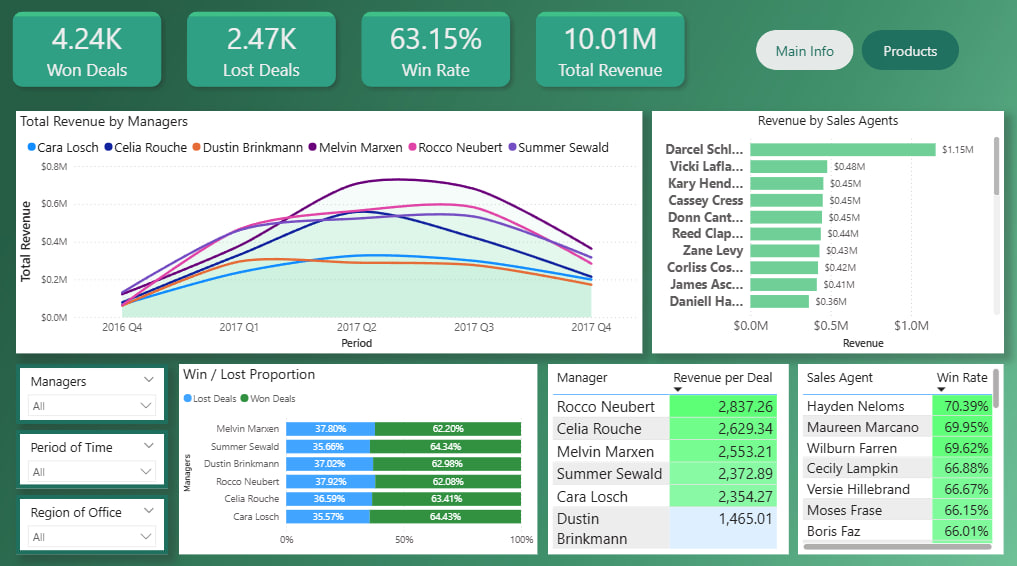

The dashboard page shown, as its layout file describes it:
{"tool":"powerbi","page":{"name":"Main Info","canvas":[1280,720],"ordinal":0},"visuals":[{"type":"slicer","fields":{"Values":["sqllab_agent_and_quarterly_perfomance.manager","sqllab_agent_and_quarterly_perfomance.year_period","sqllab_agent_and_quarterly_perfomance.quarter_period"]},"box":[21.2,457.5,190,75],"z":0},{"type":"lineChart","title":"Total Revenue by Managers","fields":{"Y":["Sum(sqllab_agent_and_quarterly_perfomance.total_won_revenue)"],"Series":["sqllab_agent_and_quarterly_perfomance.manager"],"Category":["agent_perf.Period"]},"box":[20.9,141.4,782.9,302.9],"z":1000},{"type":"clusteredBarChart","fields":{"Category":["sqllab_agent_and_quarterly_perfomance.sales_agent"],"Y":["Sum(sqllab_agent_and_quarterly_perfomance.total_won_revenue)"]},"box":[816.7,141.1,440,303.3],"z":2000},{"type":"slicer","fields":{"Values":["sqllab_agent_and_quarterly_perfomance.year_period","sqllab_agent_and_quarterly_perfomance.quarter_period"]},"box":[21.2,540,190,72.5],"z":3000},{"type":"slicer","fields":{"Values":["sqllab_agent_and_quarterly_perfomance.regional_office"]},"box":[21.1,621.1,190,74.4],"z":4000},{"type":"pageNavigator","box":[946.2,40,255,50],"z":5000},{"type":"hundredPercentStackedBarChart","title":"Win / Lost Proportion","fields":{"Category":["agent_perf.manager"],"Y":["agent_perf.Lost Deals","agent_perf.Won Deals"]},"box":[225,457.5,447.5,237.5],"z":6000},{"type":"tableEx","fields":{"Values":["sqllab_manager_perfomance.manager","agent_perf.Revenue per Deal"]},"box":[686.5,458.1,301.2,237.7],"z":7000},{"type":"cardVisual","fields":{"Data":["agent_perf.Measure","agent_perf.Lost Deals","agent_perf.Win Rate","agent_perf.Total Revenue"]},"box":[0,0,875,128.8],"z":8000},{"type":"tableEx","fields":{"Values":["agent_perf.sales_agent","agent_perf.Win Rate"]},"box":[999.2,456.9,257.3,237.7],"z":9000}]}

Visuals, with their boxes in screenshot pixels (x1, y1, x2, y2), scaled from the page's 1280x720 canvas onto the 1017x566 screenshot:
slicer - sqllab_agent_and_quarterly_perfomance.manager x sqllab_agent_and_quarterly_perfomance.year_period: crop(17, 360, 168, 419)
"Total Revenue by Managers" lineChart: crop(17, 111, 639, 349)
clusteredBarChart - sqllab_agent_and_quarterly_perfomance.sales_agent x Sum(sqllab_agent_and_quarterly_perfomance.total_won_revenue): crop(649, 111, 998, 349)
slicer - sqllab_agent_and_quarterly_perfomance.year_period x sqllab_agent_and_quarterly_perfomance.quarter_period: crop(17, 424, 168, 481)
slicer - sqllab_agent_and_quarterly_perfomance.regional_office: crop(17, 488, 168, 547)
pageNavigator: crop(752, 31, 954, 71)
"Win / Lost Proportion" hundredPercentStackedBarChart: crop(179, 360, 534, 546)
tableEx - sqllab_manager_perfomance.manager x agent_perf.Revenue per Deal: crop(545, 360, 785, 547)
cardVisual - agent_perf.Measure x agent_perf.Lost Deals: crop(0, 0, 695, 101)
tableEx - agent_perf.sales_agent x agent_perf.Win Rate: crop(794, 359, 998, 546)
